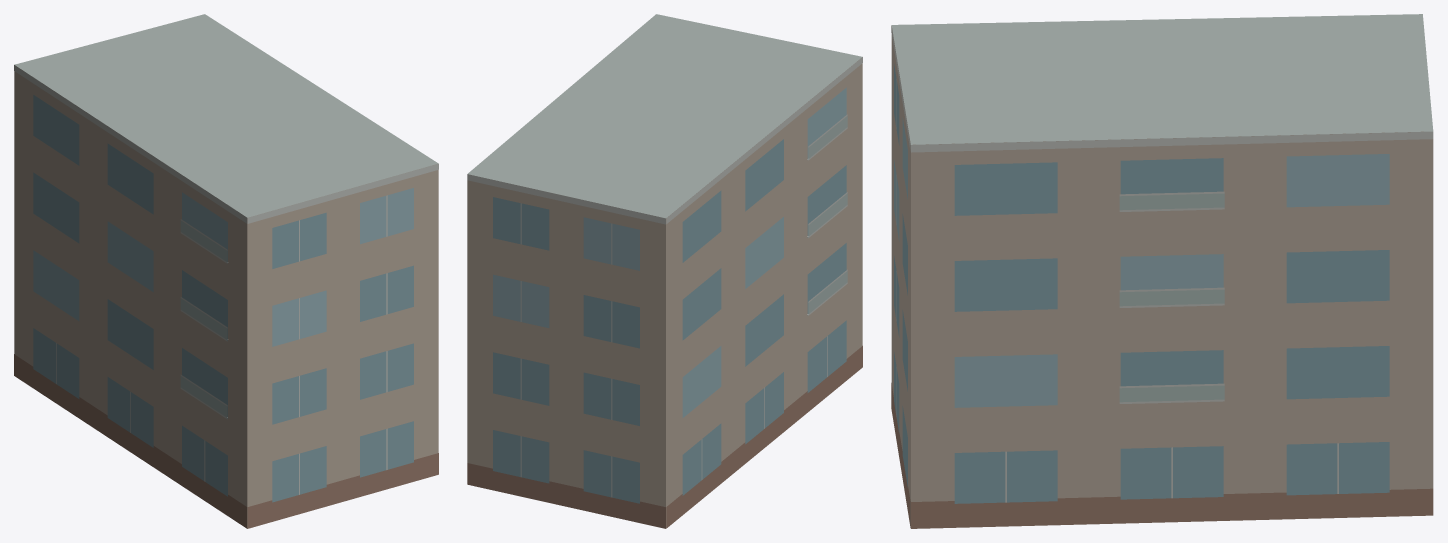
Rendered from survey-upis-32702529.glb.
3 views of the same model, side by side, from view 1: azimuth 30°, elevation 25°; view 2: azimuth 150°, elevation 25°; view 3: azimuth 270°, elevation 25° (orthographic). The views are drawn at different scales.
Parts seen in each view (by area): view 1: survey-upis-32702529.tmp; view 2: survey-upis-32702529.tmp; view 3: survey-upis-32702529.tmp.
Boxes of the visible parts, bbox=[...] form: survey-upis-32702529.tmp: bbox=[14, 14, 438, 528]; survey-upis-32702529.tmp: bbox=[467, 14, 862, 528]; survey-upis-32702529.tmp: bbox=[891, 14, 1433, 528].
Size of the model in its own units: 8.92 by 12.2 by 15.61.
